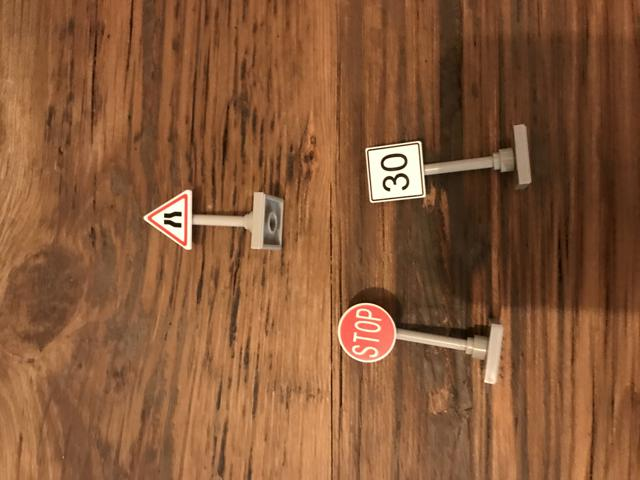stop: (335, 301, 398, 365)
tempolimit 30: (365, 141, 433, 204)
verengte fahrbahn: (141, 187, 194, 255)
